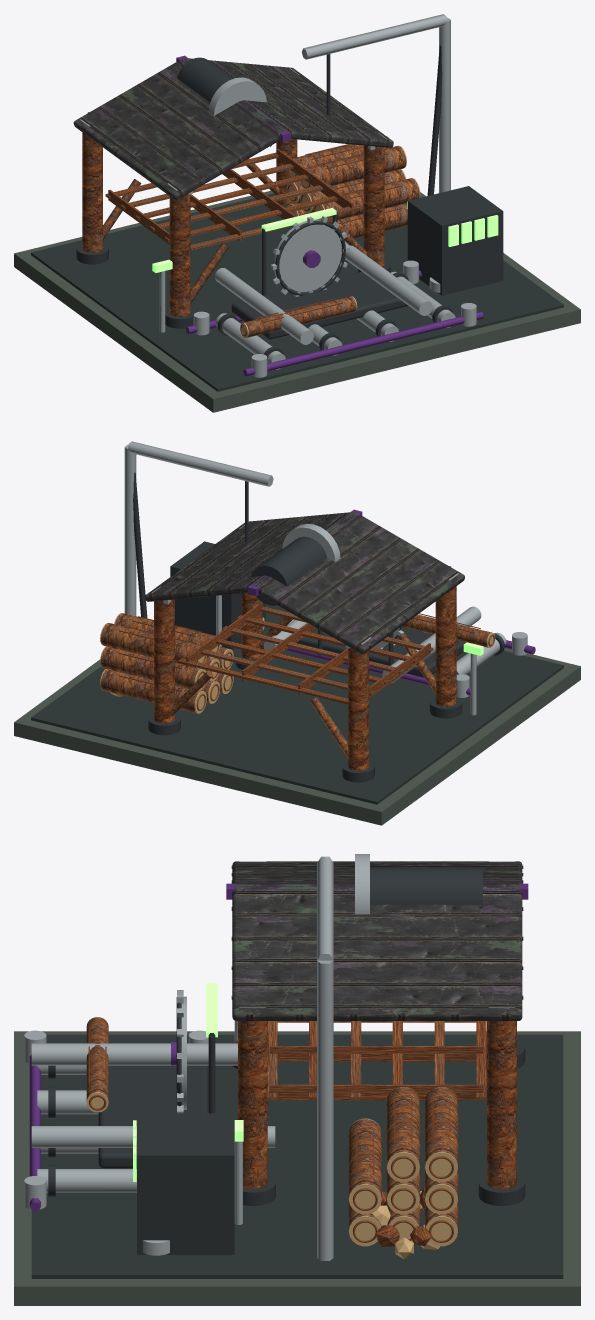
File: timberline_v4_l03.glb
3 renders of one model, top to bottom at view 1: azimuth 30°, elevation 25°; view 2: azimuth 150°, elevation 25°; view 3: azimuth 270°, elevation 25°, orthographic. The views are drawn at different scales.
Parts seen in each view (by area): view 1: timberline_v4_l03, stone_yard_base, hydraulic_sorter, saw_carriage, circular_saw_blade, saw_rotor, conveyor_roller_0, saw_safety_light; view 2: timberline_v4_l03, stone_yard_base, hydraulic_sorter, saw_carriage, conveyor_roller_0; view 3: timberline_v4_l03, stone_yard_base, hydraulic_sorter, saw_carriage, conveyor_roller_30, conveyor_roller_10, saw_rotor, saw_safety_light, circular_saw_blade.
Part boxes in pixels (x1,y1,x2,y2): timberline_v4_l03: (31,14,563,391); stone_yard_base: (14,190,580,412); hydraulic_sorter: (407,186,503,295); saw_carriage: (231,271,408,339); circular_saw_blade: (273,219,341,291); saw_rotor: (270,216,349,296); conveyor_roller_0: (215,313,285,369); saw_safety_light: (261,208,336,231); timberline_v4_l03: (31,441,563,804); stone_yard_base: (14,648,580,825); hydraulic_sorter: (170,541,265,649); saw_carriage: (296,627,464,677); conveyor_roller_0: (456,632,506,674); timberline_v4_l03: (24,854,563,1278); stone_yard_base: (14,1031,580,1305); hydraulic_sorter: (137,1113,234,1254); saw_carriage: (98,1065,208,1168); conveyor_roller_30: (37,1169,136,1192); conveyor_roller_10: (37,1090,98,1114); saw_rotor: (171,990,183,1113); saw_safety_light: (206,983,217,1037); circular_saw_blade: (181,996,186,1109).
Size of the model in its own units: 6.5 by 3.96 by 6.1.
Materials: 11 (3 with a texture image).
